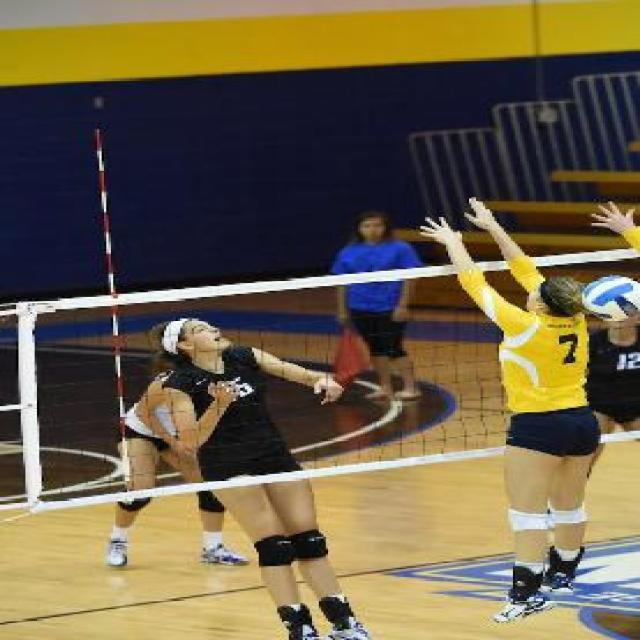volleyball: (582, 274, 639, 324)
